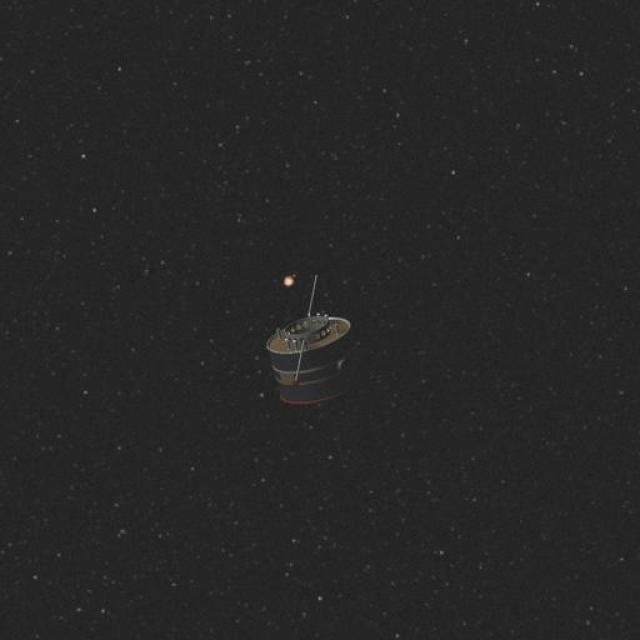double_start: (242, 262, 374, 418)
